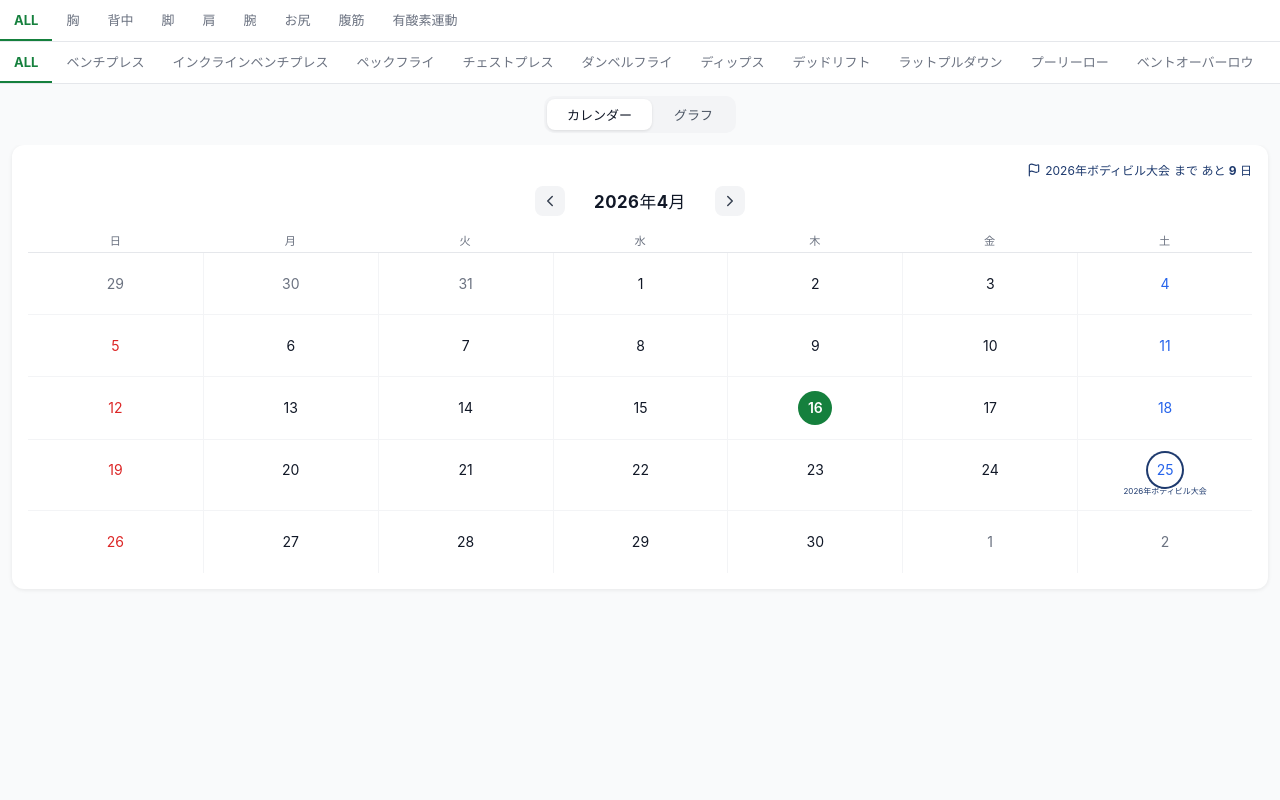
Scenario: HistoryPage — 日付を押したとき › 記録が無くても、大会がある日はポップアップを開く（日付詳細へは遷移しない）
The image size is (1280, 800).
Click the button "25 2026年ボディビル大会".
click(1165, 474)  # box left=1077, top=439, right=1252, bottom=510
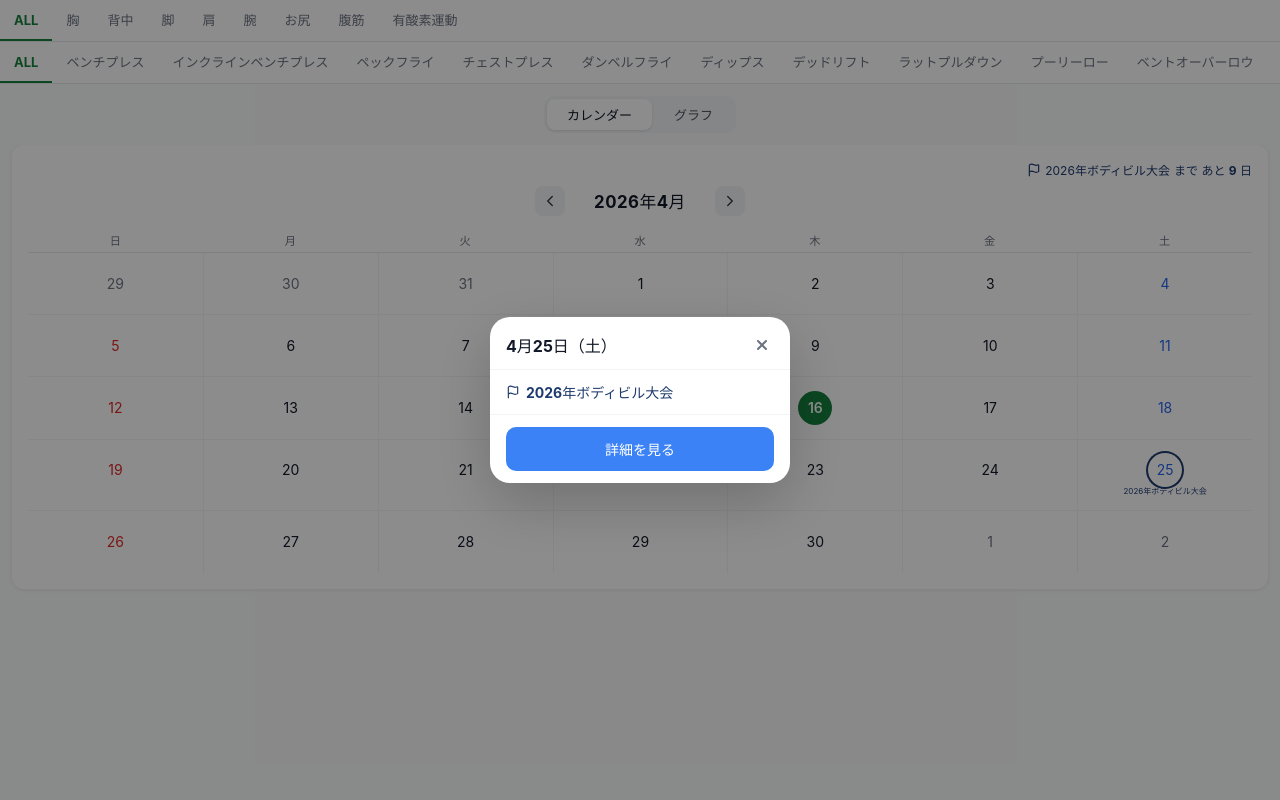
expect the element with test id "popup-overlay" is shown: met
expect the text "2026年ボディビル大会" is shown: met, box left=526, top=382, right=673, bottom=402
